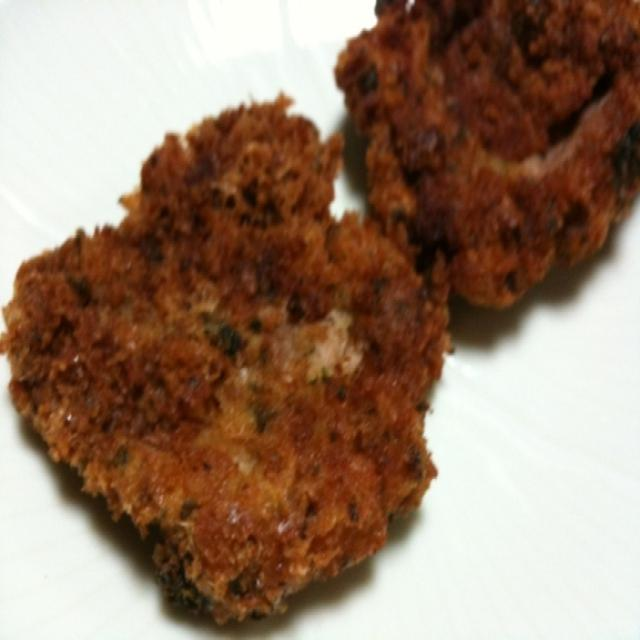牛肉菜式: (11, 11, 633, 626)
